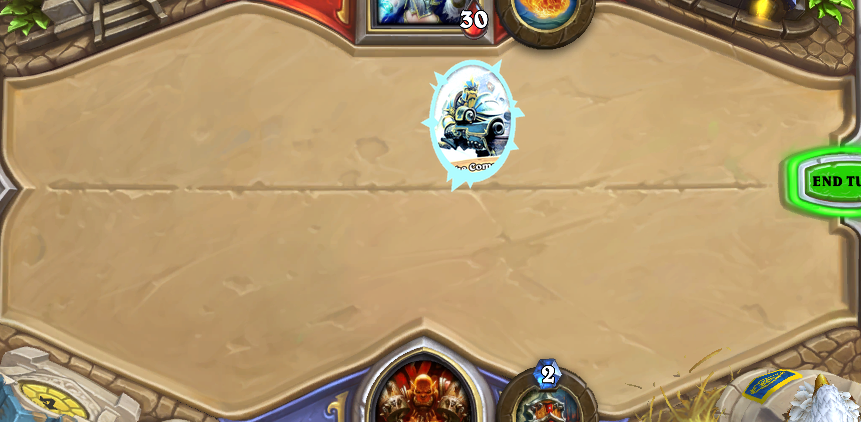CS2_150: (421, 57, 527, 193)
